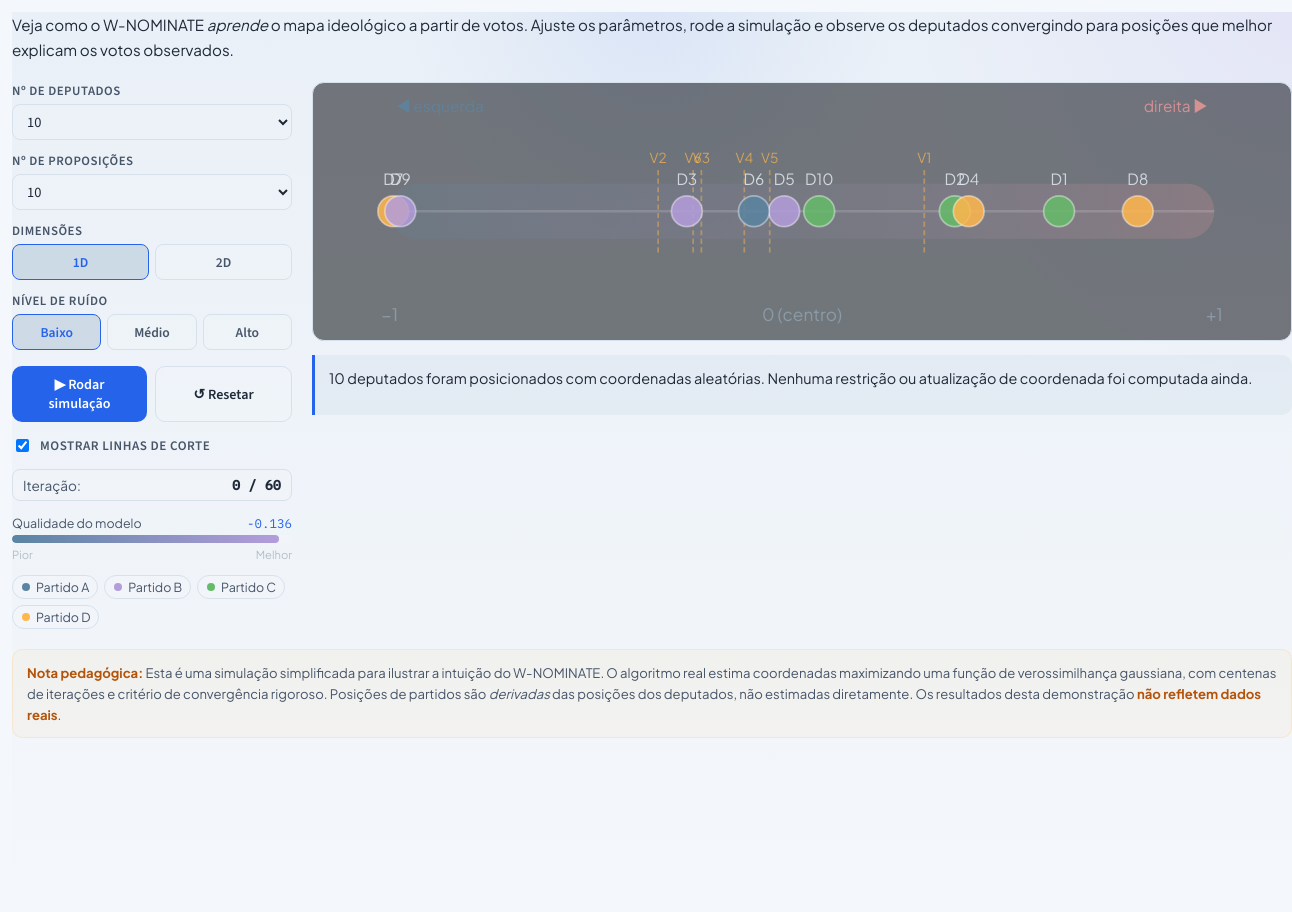
Test: WNominateDemo › reset button re-enables run button
Click the button with test id "btn-run" at (80, 394), box [12,366,147,422]
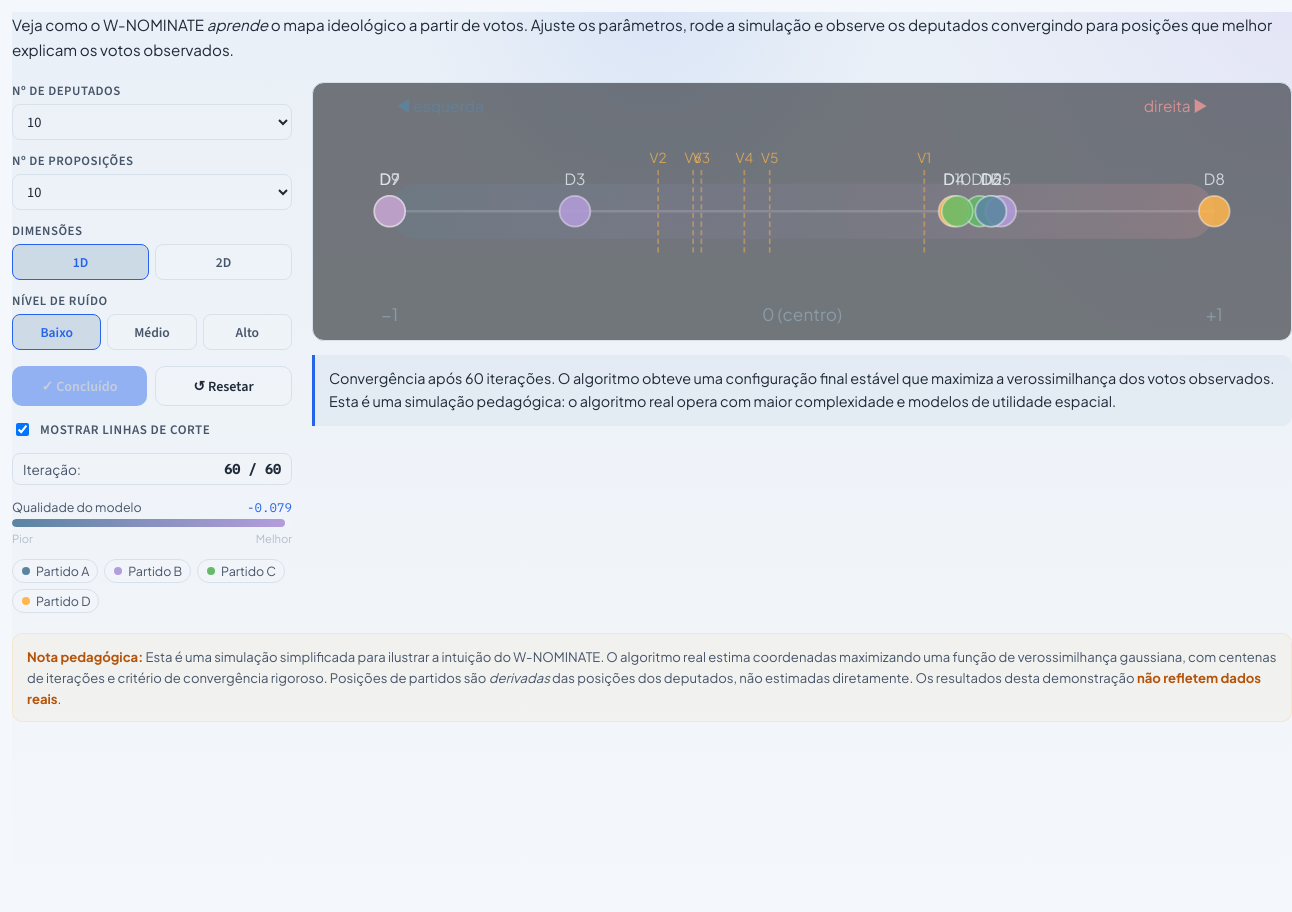
Note: Reset should make run button available again
Click the button with test id "btn-reset" at (224, 386), box [155,366,292,406]
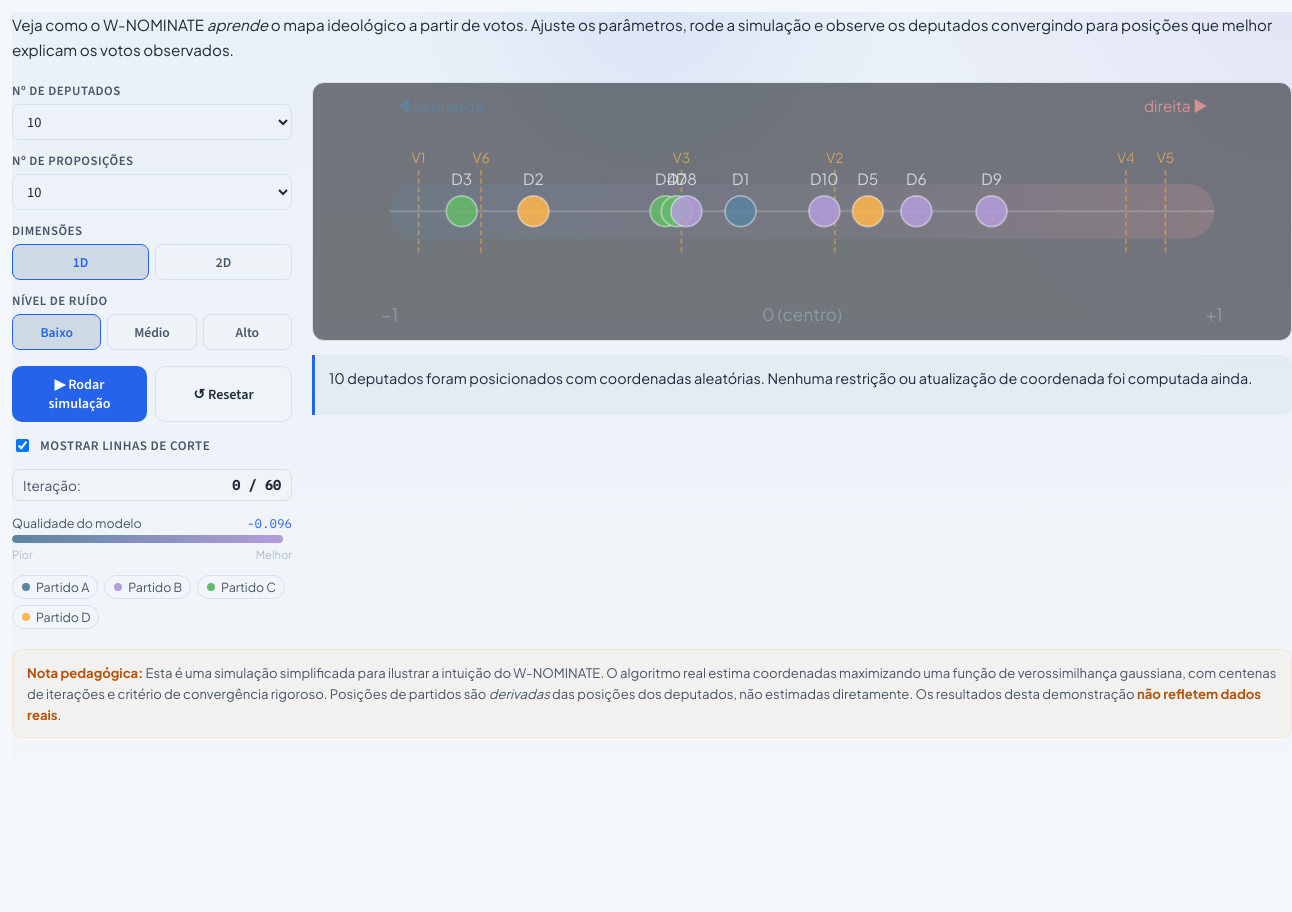
Result: the button with test id "btn-run" is enabled at [12,366,147,422]
